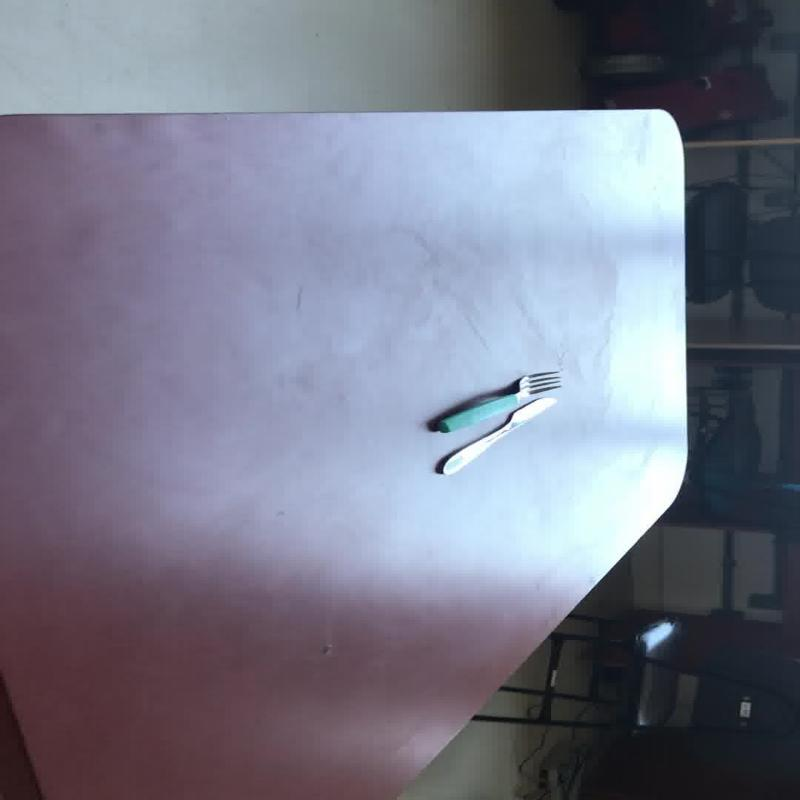fork: (432, 370, 561, 432)
knife: (434, 396, 556, 475)
